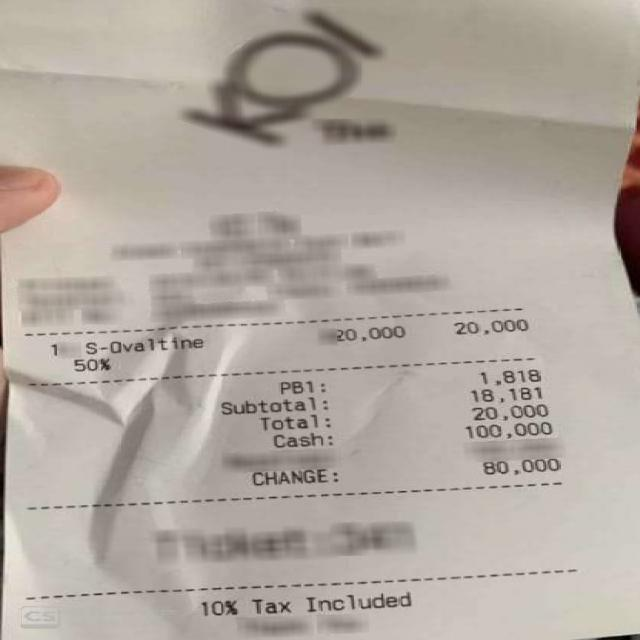text: (83, 335, 202, 355), (303, 590, 409, 610), (218, 395, 328, 412), (462, 419, 548, 438), (251, 467, 335, 485), (469, 402, 545, 420), (480, 456, 555, 474), (450, 316, 524, 334), (257, 412, 329, 429), (334, 324, 401, 342), (468, 384, 538, 401), (475, 368, 540, 386), (271, 430, 332, 446), (251, 595, 286, 613), (277, 378, 321, 392), (200, 598, 234, 615), (72, 357, 106, 370), (46, 340, 59, 355)
